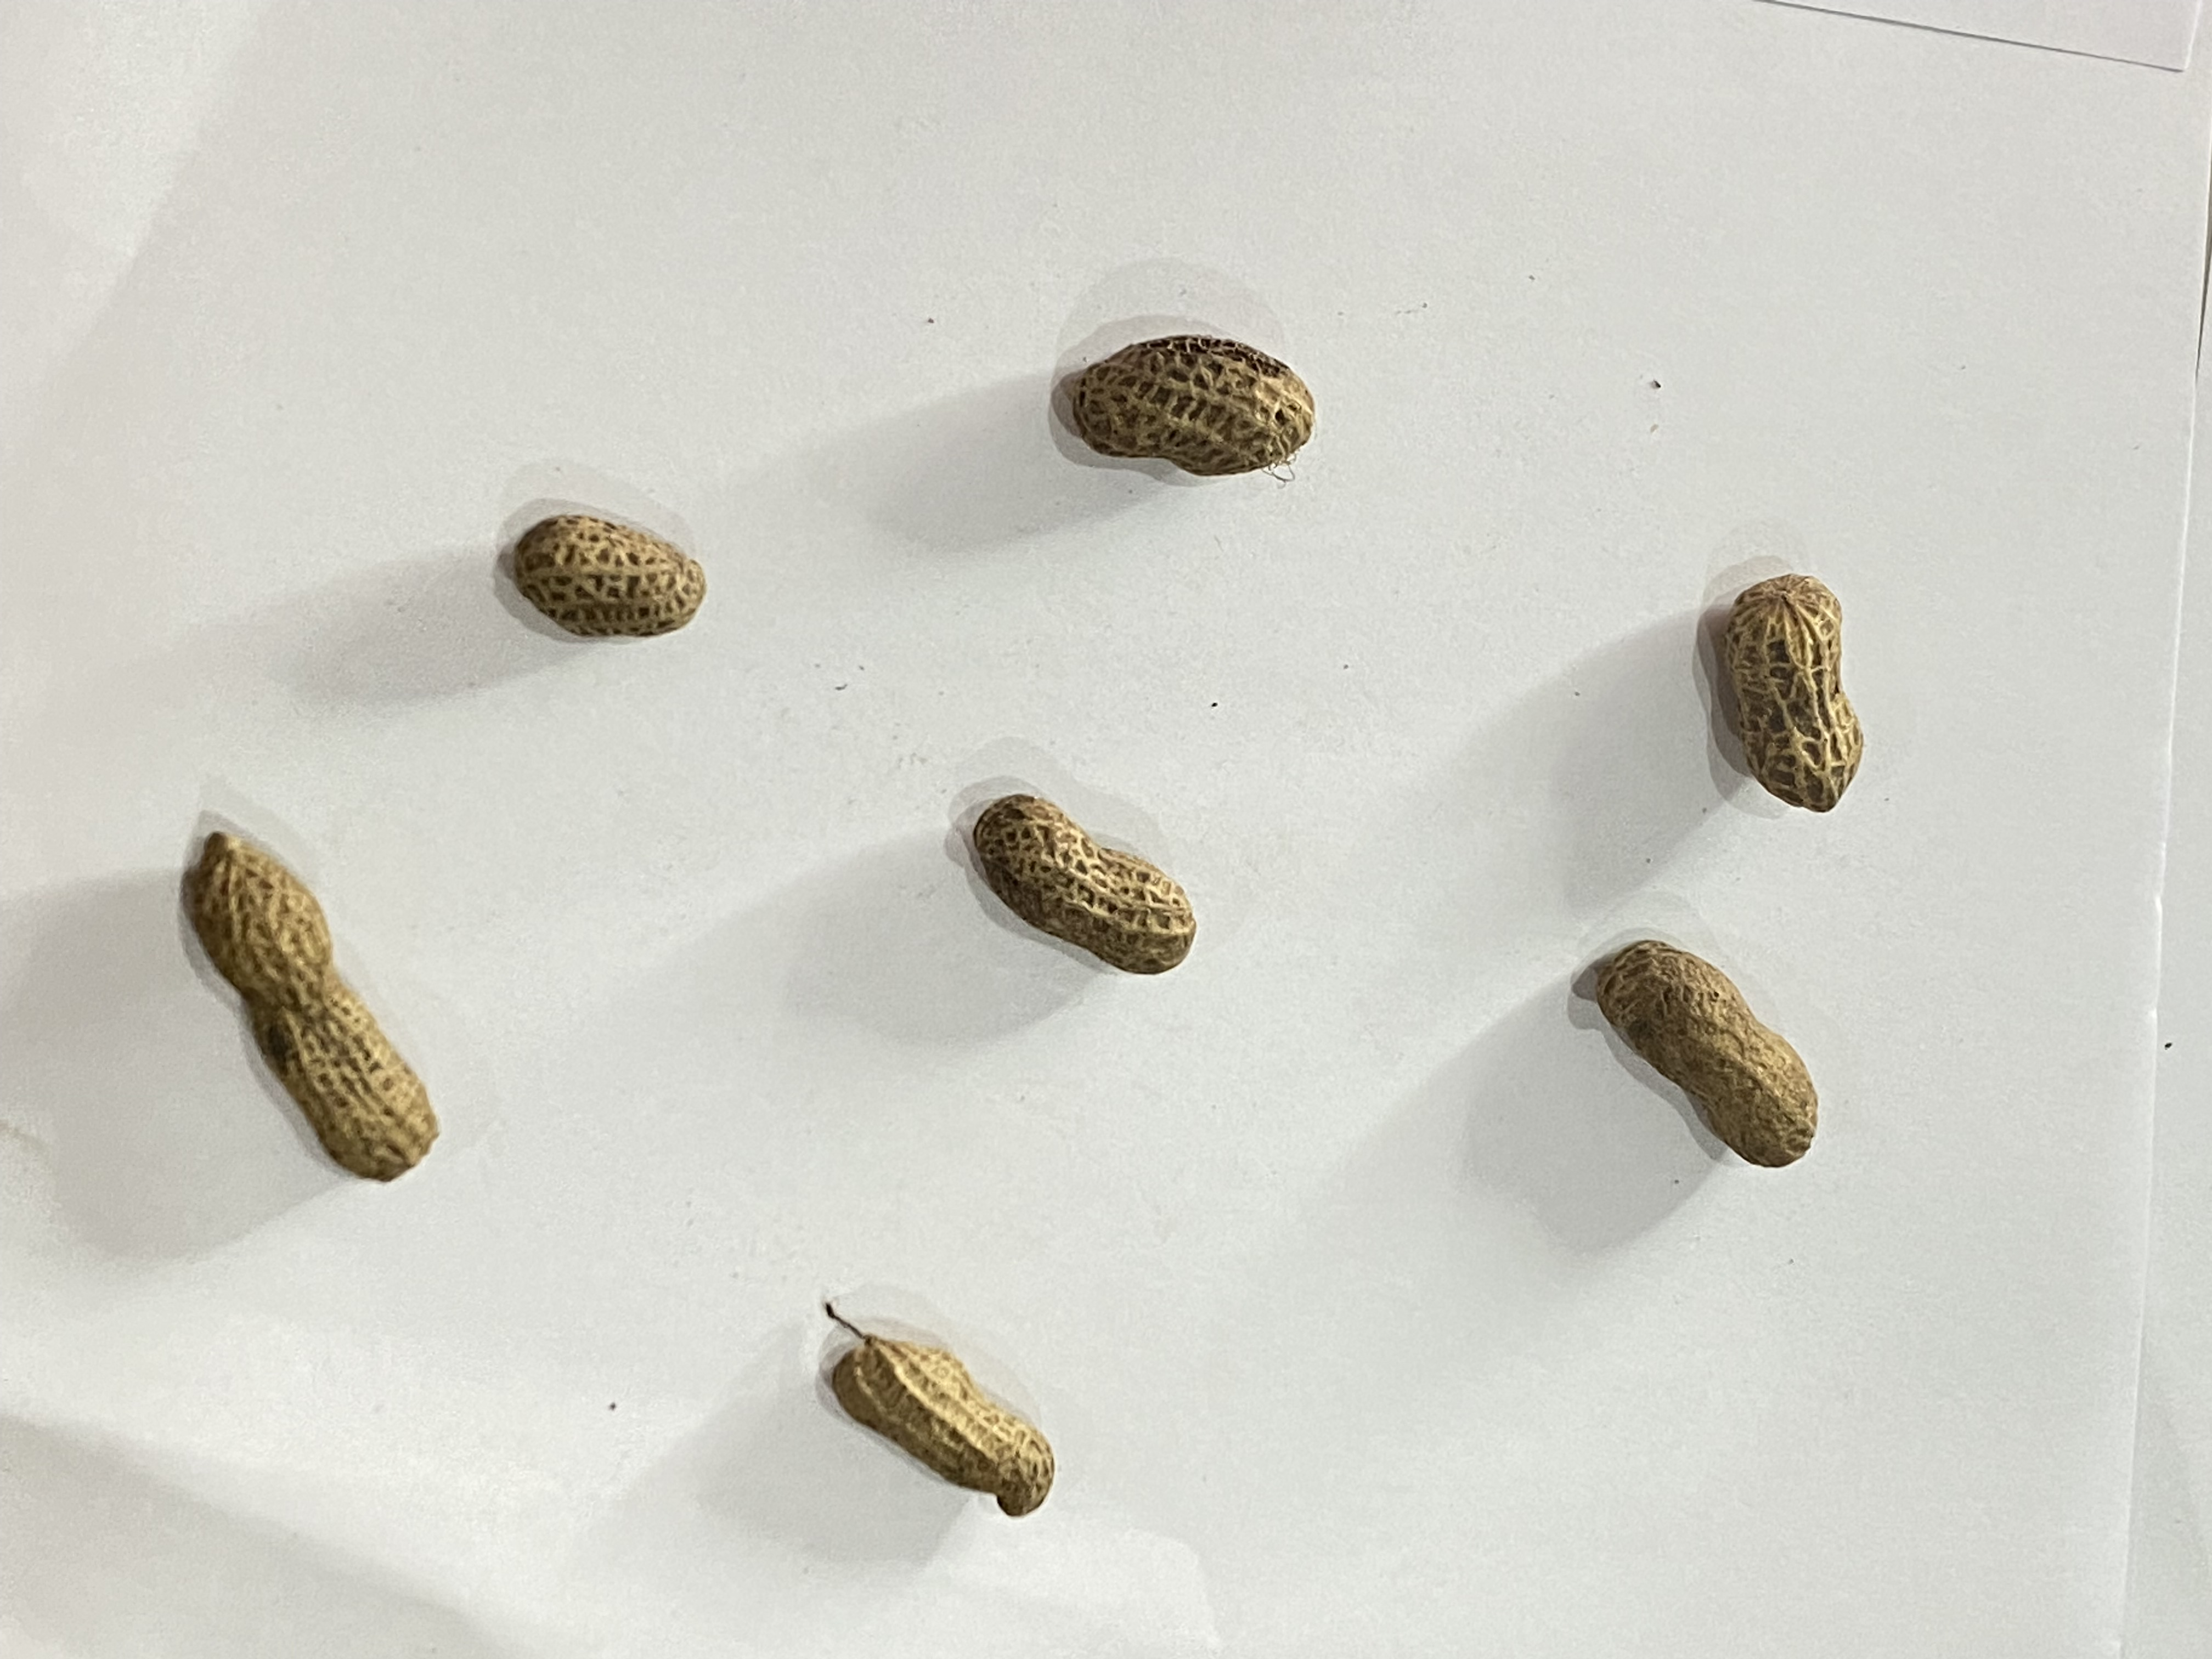kacang1: (1054, 315, 1346, 504), (467, 481, 738, 652)
kacang2: (1674, 542, 1918, 821), (944, 769, 1235, 997), (827, 1330, 1076, 1525)
kacang3: (152, 805, 481, 1192), (1561, 904, 1836, 1169)
